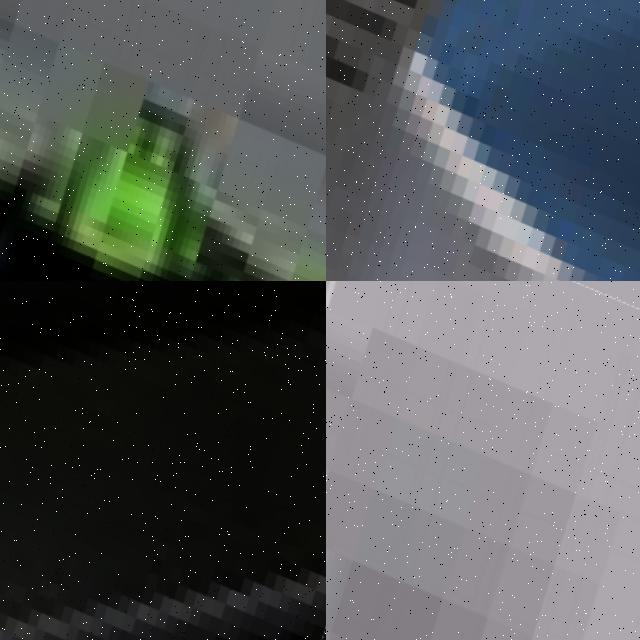0: (326, 281, 640, 640), (0, 0, 326, 281)
drone: (0, 281, 326, 640), (326, 0, 640, 281)
